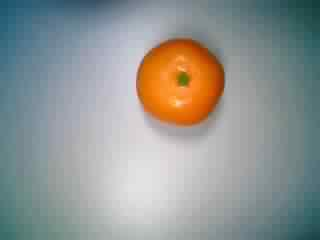orange: (128, 33, 225, 130)
